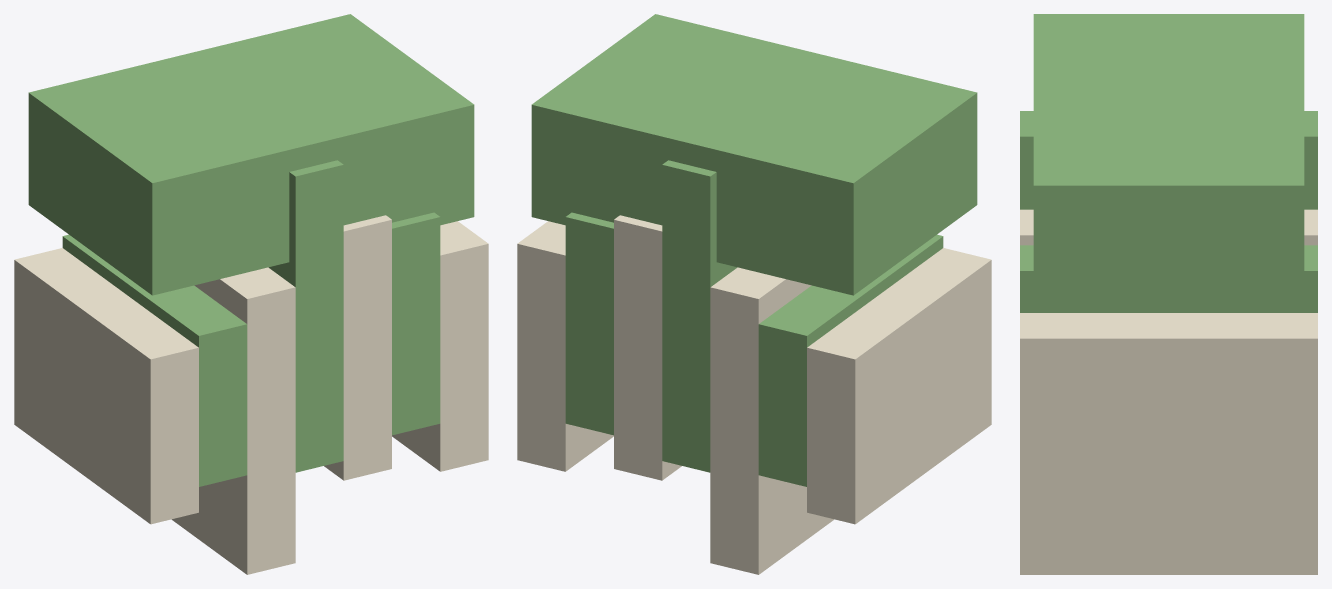
File: druida_saia.glb
3 renders of one model, left to right at view 1: azimuth 30°, elevation 25°; view 2: azimuth 150°, elevation 25°; view 3: azimuth 270°, elevation 25°, orthographic. The views are drawn at different scales.
Parts seen in each view (by area): view 1: druida_saia; view 2: druida_saia; view 3: druida_saia.
Boxes of the visible parts, x1=… form: druida_saia: x1=14, y1=14, x2=488, y2=574; druida_saia: x1=517, y1=14, x2=991, y2=574; druida_saia: x1=1020, y1=14, x2=1317, y2=574.
Bounding box in the file's own units: 0.63 × 0.7277 × 0.44.
